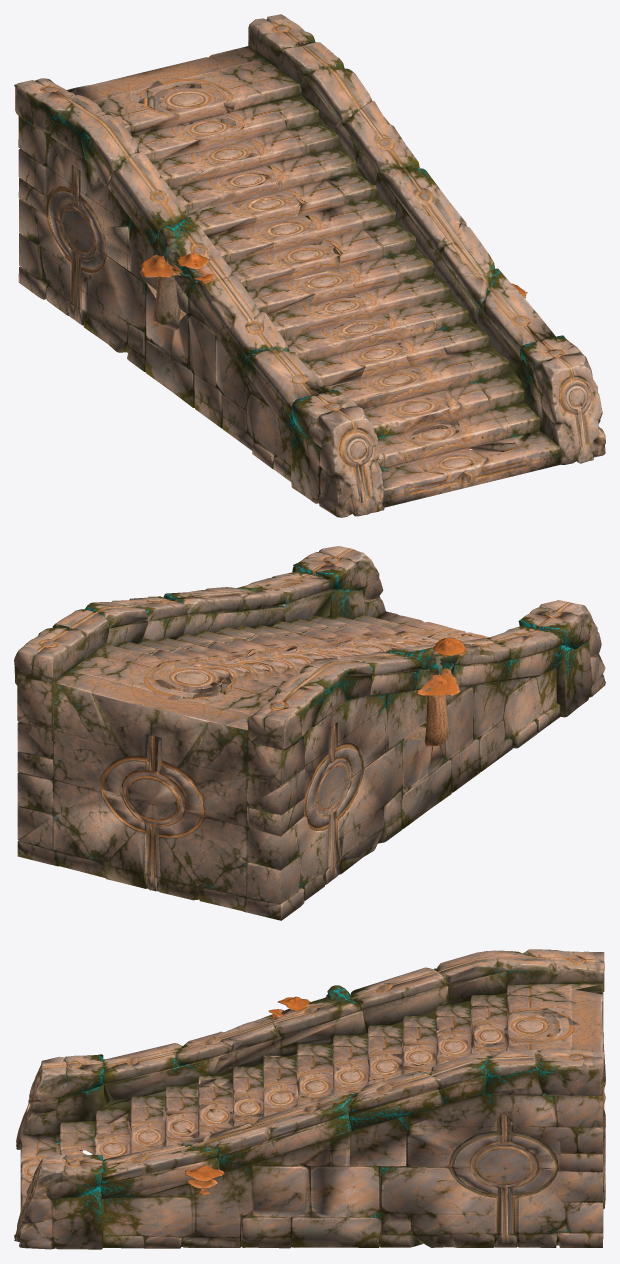
File: citadel_stairs.glb
3 views of the same model, one above another, from view 1: azimuth 30°, elevation 25°; view 2: azimuth 150°, elevation 25°; view 3: azimuth 270°, elevation 25° (orthographic). The views are drawn at different scales.
Bounding box in the file's own units: 0.522 × 0.3301 × 0.9556.
1 material, 1 textured.
